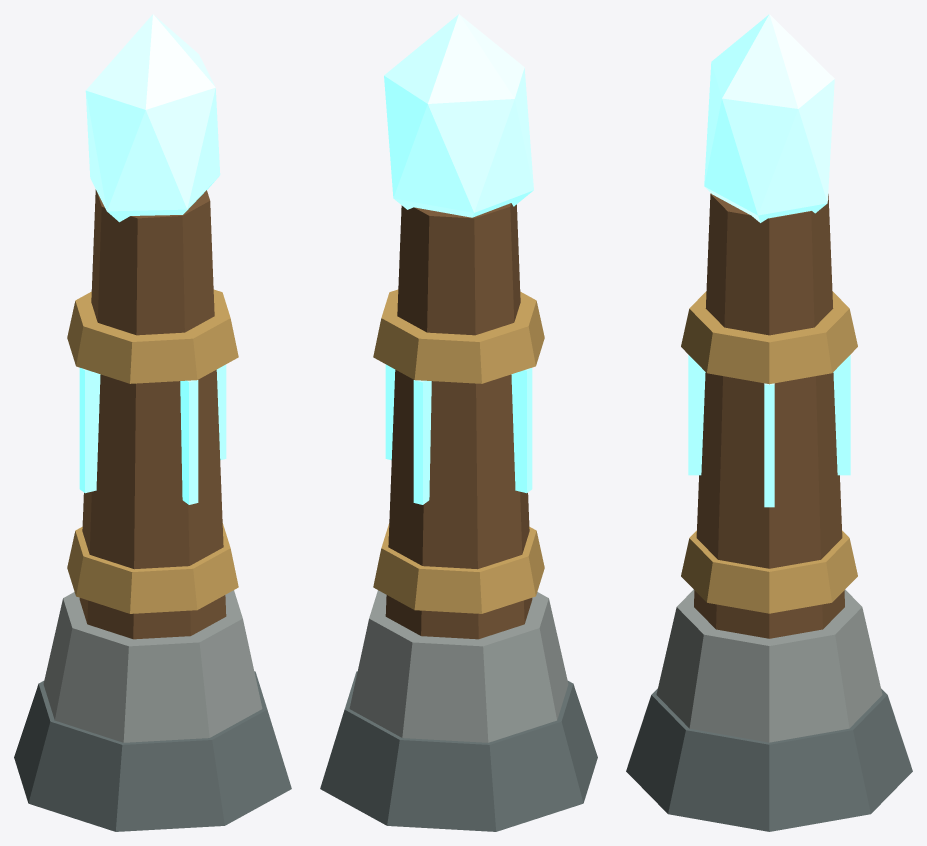
The model's file is ward_boundary_post.glb.
The picture shows the model from 3 angles, left to right: view 1: azimuth 30°, elevation 25°; view 2: azimuth 150°, elevation 25°; view 3: azimuth 270°, elevation 25°; orthographic projection.
Parts seen in each view (by area): view 1: Boundary_Post_Shaft, Boundary_Post_Foot, Boundary_Post_Base, Boundary_Post_Crystal, Boundary_Post_Band_2, Boundary_Post_Band_1, Boundary_Post_Rune_3, Boundary_Post_Rune_4, Boundary_Post_Rune_1; view 2: Boundary_Post_Shaft, Boundary_Post_Foot, Boundary_Post_Crystal, Boundary_Post_Base, Boundary_Post_Band_2, Boundary_Post_Band_1, Boundary_Post_Rune_3, Boundary_Post_Rune_2, Boundary_Post_Rune_1; view 3: Boundary_Post_Shaft, Boundary_Post_Foot, Boundary_Post_Base, Boundary_Post_Crystal, Boundary_Post_Band_2, Boundary_Post_Band_1, Boundary_Post_Rune_2, Boundary_Post_Rune_4, Boundary_Post_Rune_1.
Boxes of the visible parts, <box> form: Boundary_Post_Shaft: <box>79,189,226,639</box>; Boundary_Post_Foot: <box>14,671,291,831</box>; Boundary_Post_Base: <box>43,590,262,742</box>; Boundary_Post_Crystal: <box>85,14,220,222</box>; Boundary_Post_Band_2: <box>67,289,238,383</box>; Boundary_Post_Band_1: <box>67,523,238,613</box>; Boundary_Post_Rune_3: <box>79,368,100,493</box>; Boundary_Post_Rune_4: <box>180,380,198,504</box>; Boundary_Post_Rune_1: <box>216,364,226,460</box>; Boundary_Post_Shaft: <box>385,203,532,639</box>; Boundary_Post_Foot: <box>320,671,597,831</box>; Boundary_Post_Crystal: <box>384,14,533,217</box>; Boundary_Post_Base: <box>349,590,568,742</box>; Boundary_Post_Band_2: <box>373,289,544,383</box>; Boundary_Post_Band_1: <box>373,523,544,613</box>; Boundary_Post_Rune_3: <box>511,368,532,493</box>; Boundary_Post_Rune_2: <box>413,380,431,504</box>; Boundary_Post_Rune_1: <box>385,364,395,460</box>; Boundary_Post_Shaft: <box>694,193,844,638</box>; Boundary_Post_Foot: <box>626,688,912,831</box>; Boundary_Post_Base: <box>656,589,882,742</box>; Boundary_Post_Crystal: <box>704,14,834,222</box>; Boundary_Post_Band_2: <box>681,291,857,384</box>; Boundary_Post_Band_1: <box>681,530,857,613</box>; Boundary_Post_Rune_2: <box>833,355,850,475</box>; Boundary_Post_Rune_4: <box>688,355,705,475</box>; Boundary_Post_Rune_1: <box>764,383,774,507</box>.
Size of the model in its own units: 0.68 by 1.98 by 0.68.
